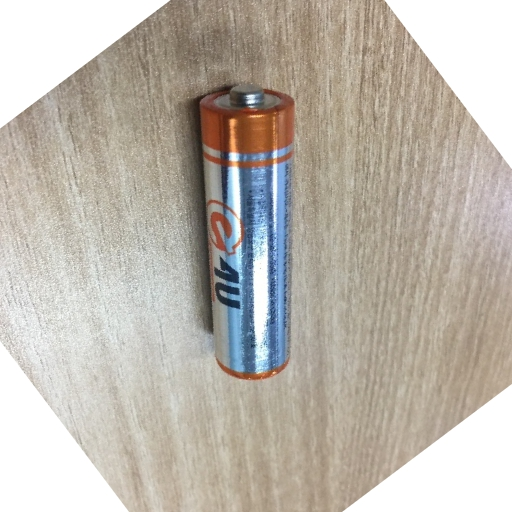Battery_0: (186, 70, 310, 384)
